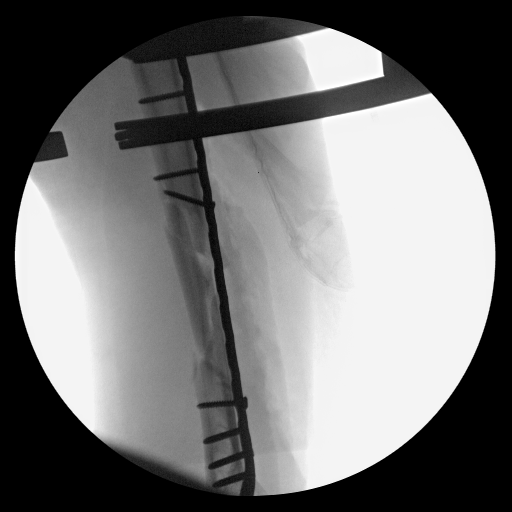implant: (113, 76, 220, 228), (190, 392, 263, 502)
